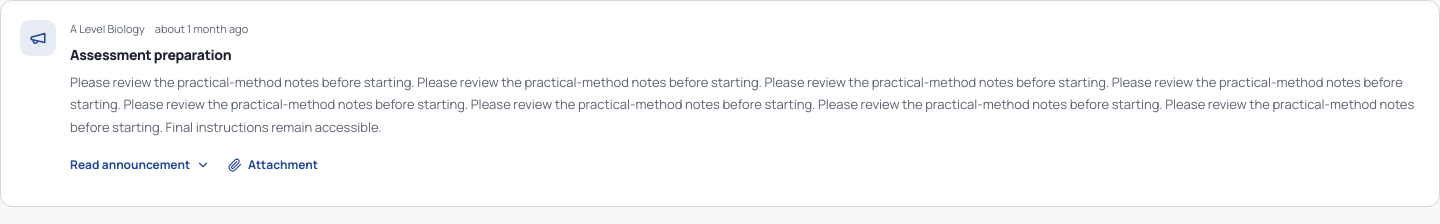
Test: class cards and announcements › makes the complete long announcement readable and preserves attachment access
The image size is (1440, 224).
Click the button "Read announcement".
click(140, 165)  # box 70,143 -> 210,187
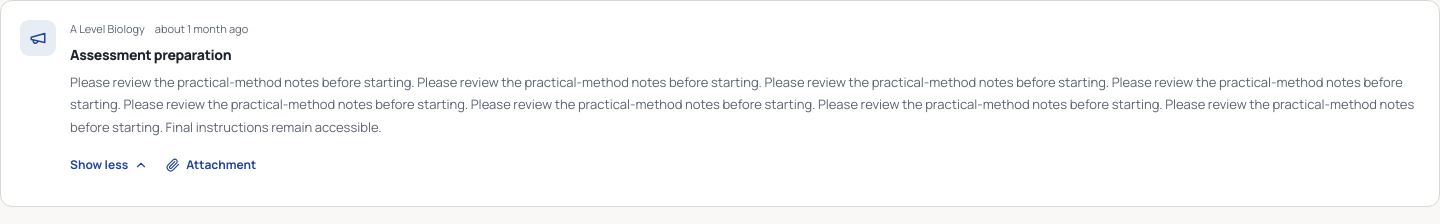
Now the button "Show less" is expanded, box 70,143 -> 148,187
